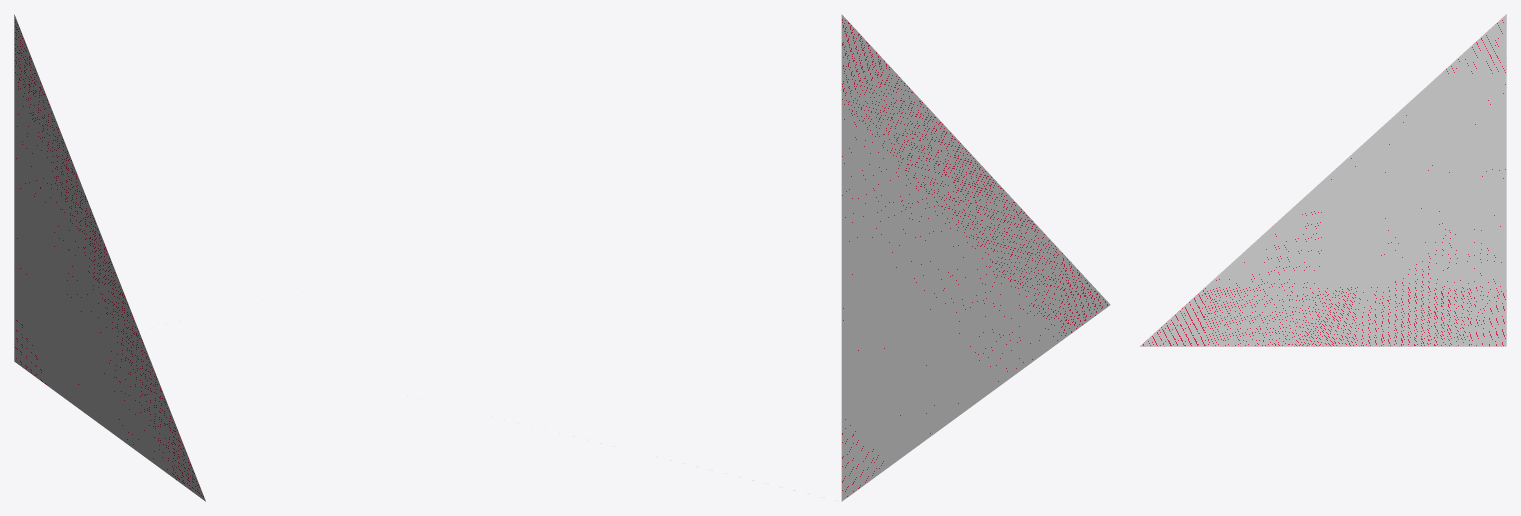
Rendered from ritual-book.fbx.
3 renders of one model, left to right at view 1: azimuth 30°, elevation 25°; view 2: azimuth 150°, elevation 25°; view 3: azimuth 270°, elevation 25°, orthographic. The views are drawn at different scales.
Parts seen in each view (by area): view 1: generated; view 2: generated; view 3: generated.
Boxes of the visible parts, left/top/right/bottom form: generated: left=14, top=14, right=205, bottom=501; generated: left=841, top=14, right=1110, bottom=501; generated: left=1140, top=14, right=1506, bottom=346.
Bounding box in the file's own units: 1000039 × 1000034 × 1000039.
Materials: 1 (1 with a texture image).
